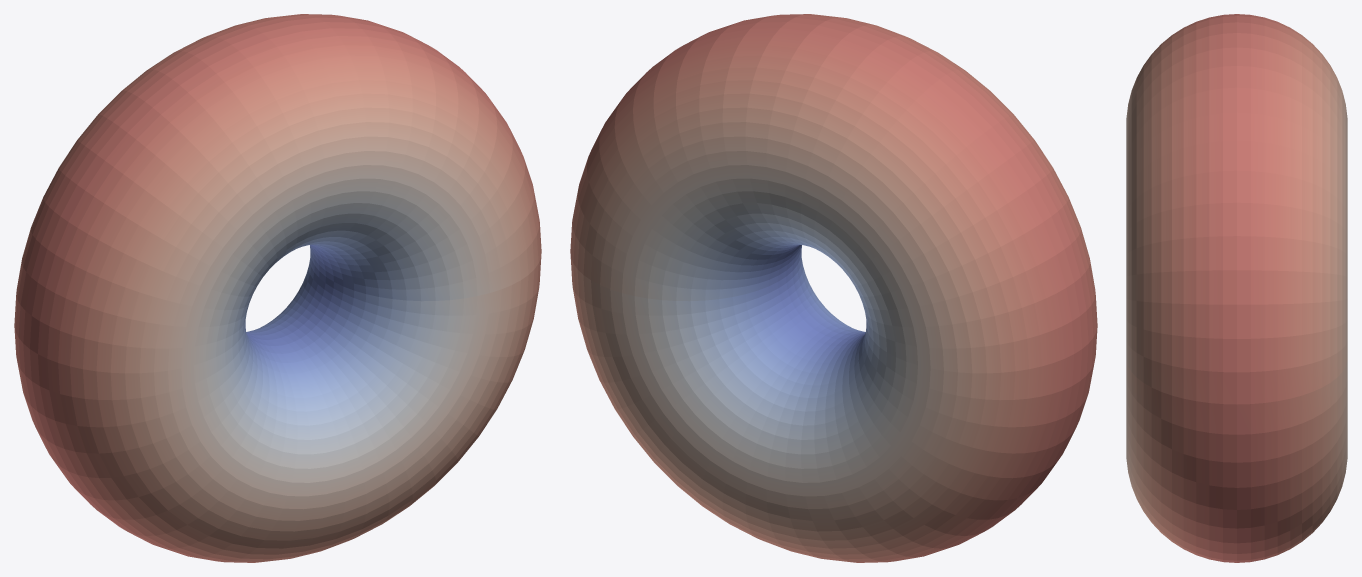
The picture shows the model from 3 angles, left to right: view 1: azimuth 30°, elevation 25°; view 2: azimuth 150°, elevation 25°; view 3: azimuth 270°, elevation 25°; orthographic projection. The views are drawn at different scales.
Visible parts, largest first — view 1: world; view 2: world; view 3: world.
Part boxes in pixels (bbox=[...]): world: bbox=[14, 14, 541, 562]; world: bbox=[570, 14, 1097, 562]; world: bbox=[1126, 14, 1347, 562].
Bounding box in the file's own units: 23.47 × 23.42 × 9.45.
